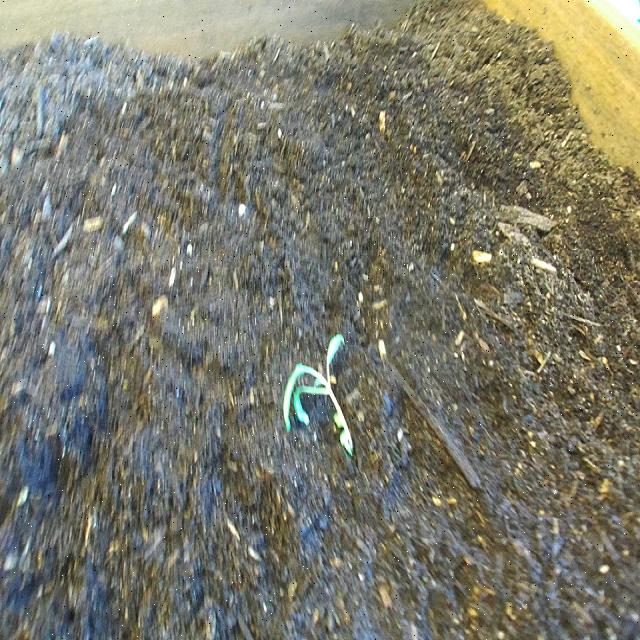Unhealthy: (279, 325, 364, 473)
